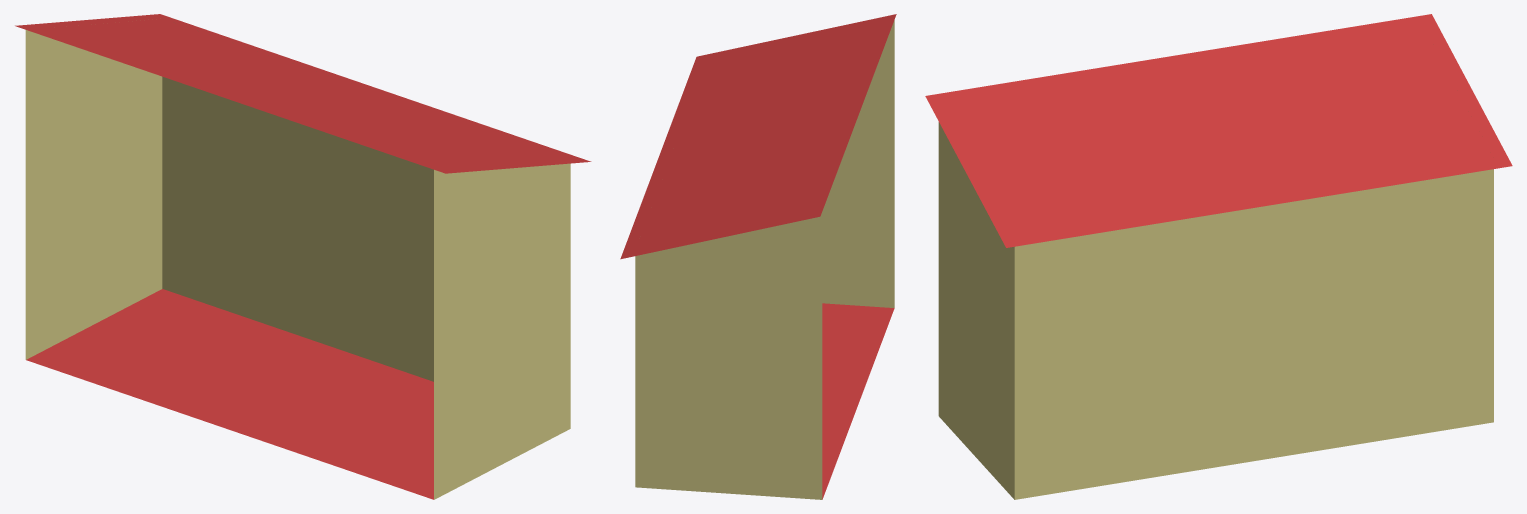
The picture shows the model from 3 angles, left to right: view 1: azimuth 30°, elevation 25°; view 2: azimuth 150°, elevation 25°; view 3: azimuth 270°, elevation 25°; orthographic projection. The views are drawn at different scales.
Bounding box in the file's own units: 6.97 × 10.1 × 6.12.
